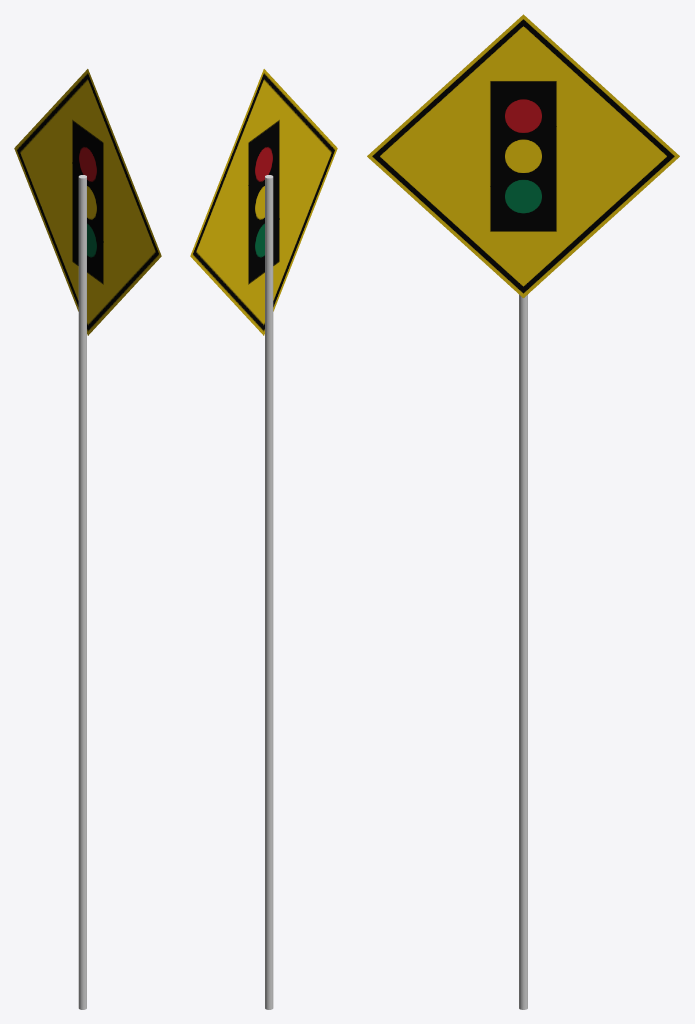
Rendered from lampu-isyarat.fbx.
The picture shows the model from 3 angles, left to right: view 1: azimuth 30°, elevation 25°; view 2: azimuth 150°, elevation 25°; view 3: azimuth 270°, elevation 25°; orthographic projection. The views are drawn at different scales.
Visible parts, largest first — view 1: lampu-isyarat, Cylinder; view 2: lampu-isyarat, Cylinder; view 3: lampu-isyarat, Cylinder.
Boxes of the visible parts, x1,y1,x2,y2 form: lampu-isyarat: (14, 69, 161, 335); Cylinder: (78, 175, 86, 1009); lampu-isyarat: (190, 69, 337, 335); Cylinder: (265, 175, 273, 1009); lampu-isyarat: (367, 14, 679, 297); Cylinder: (519, 294, 527, 1009).
Size of the model in its own units: 3.43 by 350 by 100.
